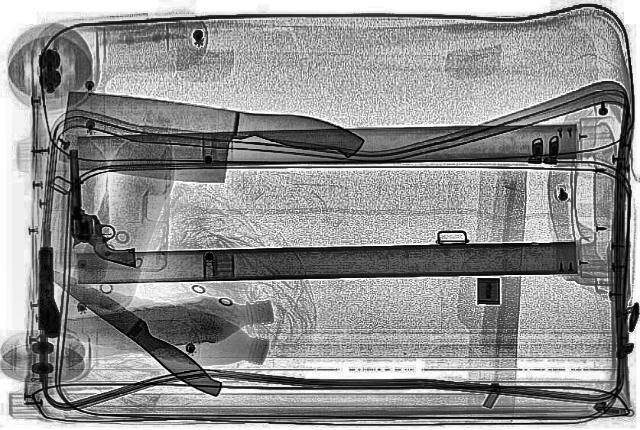Gun: (45, 148, 162, 266), (30, 247, 64, 339)
Knife: (34, 83, 370, 203), (32, 256, 238, 404)
